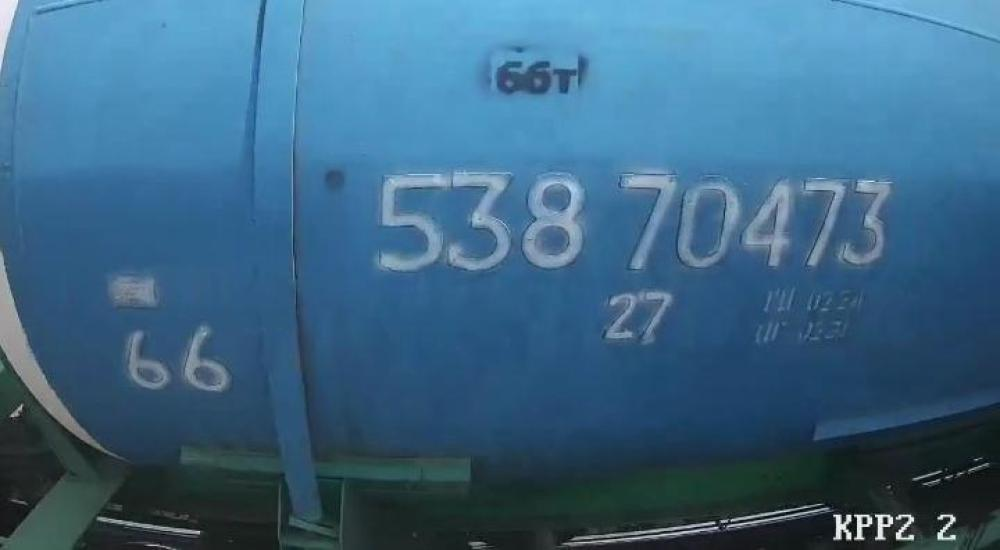Wagon-number: (371, 168, 895, 282)
